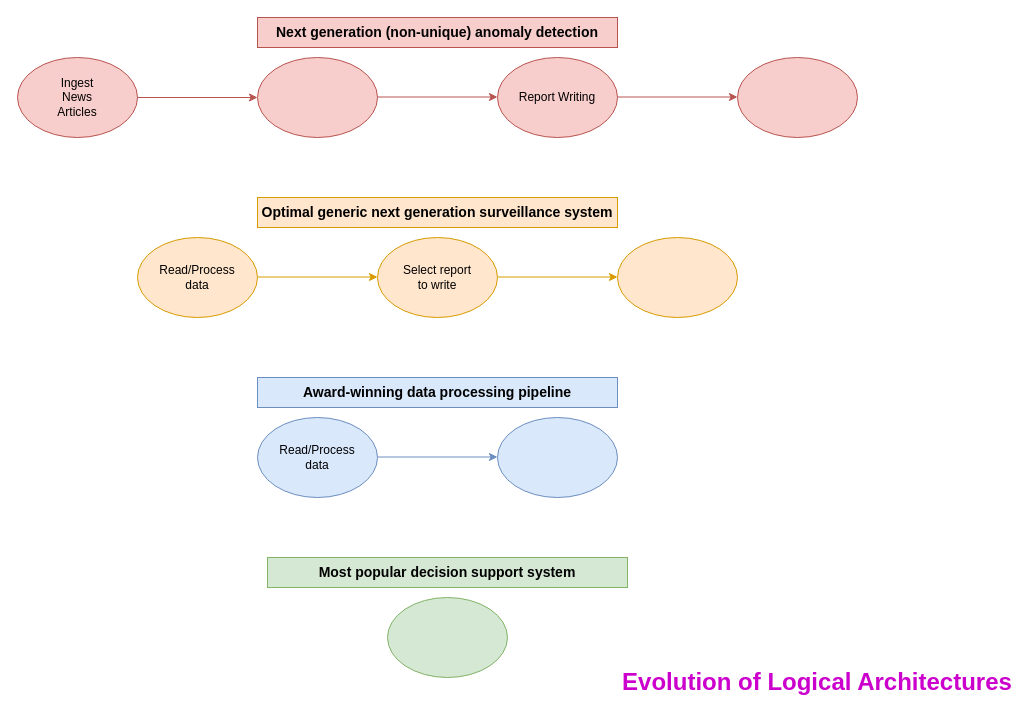
Some shapes in this 1035 by 715 pixel diagram are drawn without their labels. Here are the shapes that lost their labels. From the top down, the centre of each, then its label:
At [317,97]: "Data Enhancement".
At [797,97]: "Publish to Subscribers".
At [677,277]: "Create deck from report".
At [557,457]: "Send data to Excel".
At [447,637]: "Ask AI".
